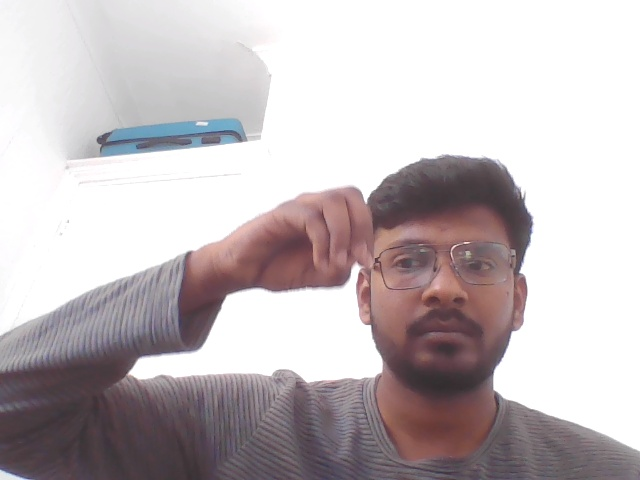Yes: (175, 171, 387, 355)
